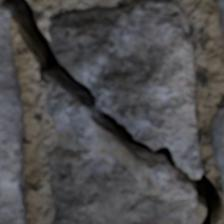brick: (0, 7, 26, 223), (211, 108, 223, 183), (217, 0, 223, 32)
broken_brick: (49, 0, 204, 177), (45, 75, 197, 223)
crack: (0, 0, 223, 223)
